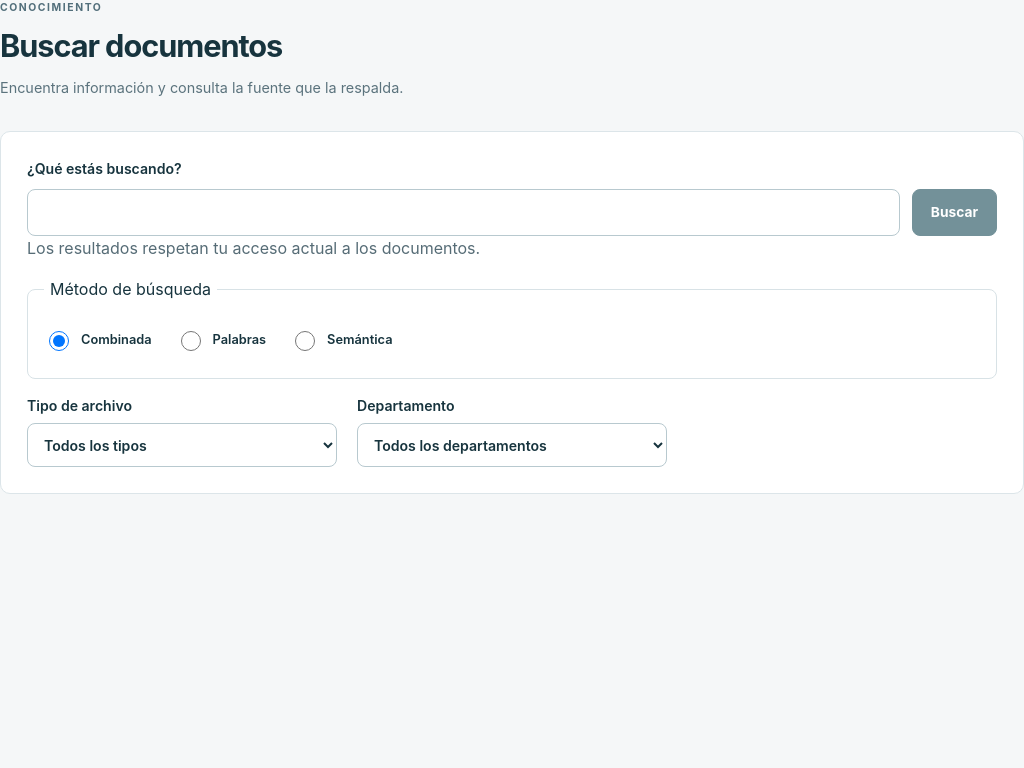
Test: submits labeled filters and clearly identifies fake semantic results
Expected: the button "Buscar" is disabled, left=912, top=189, right=997, bottom=236
Select "PDF" in the dropdown labelled "Tipo de archivo". click: (182, 445)
box: left=27, top=423, right=337, bottom=467
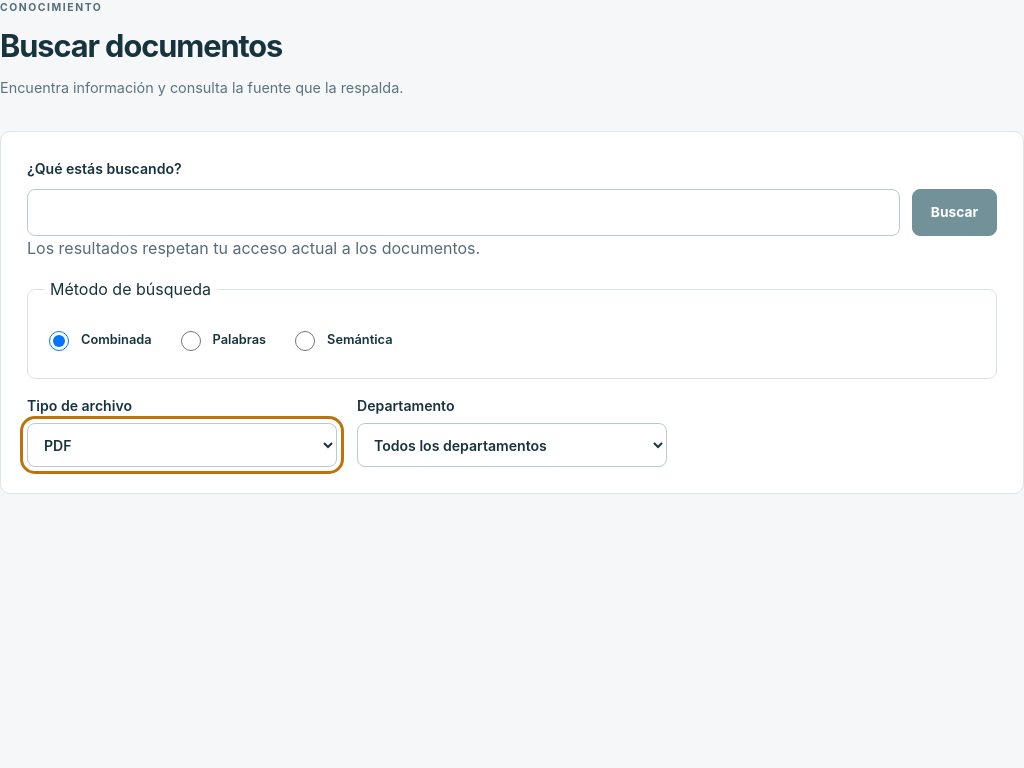
Select "Ingeniería" in the dropdown labelled "Departamento". click: (512, 445)
box: left=357, top=423, right=667, bottom=467
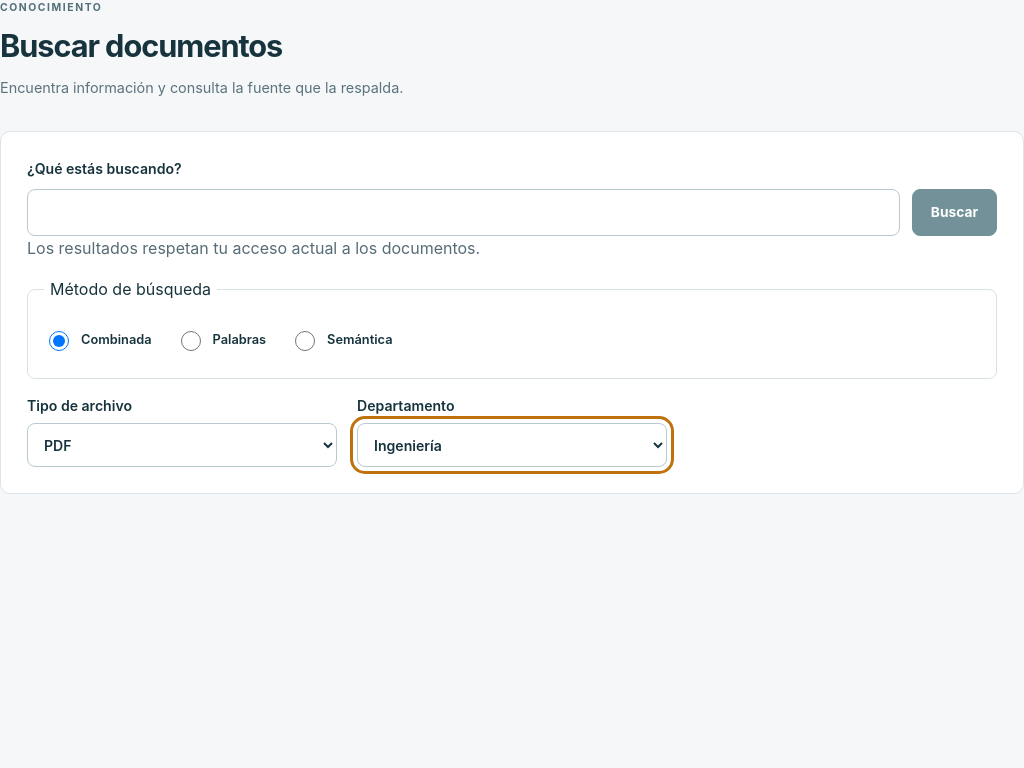
Type "viajes" into the search field. click: (463, 212)
box: left=27, top=189, right=900, bottom=236
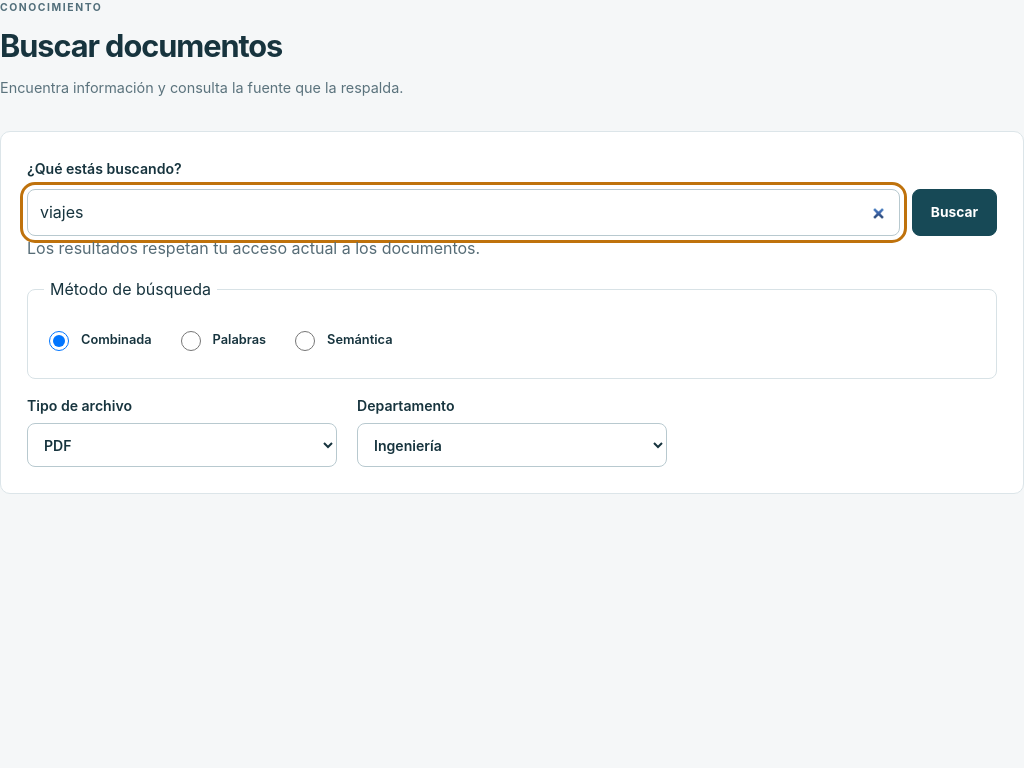
Click the button "Buscar". click: (954, 212)
box: left=912, top=189, right=997, bottom=236
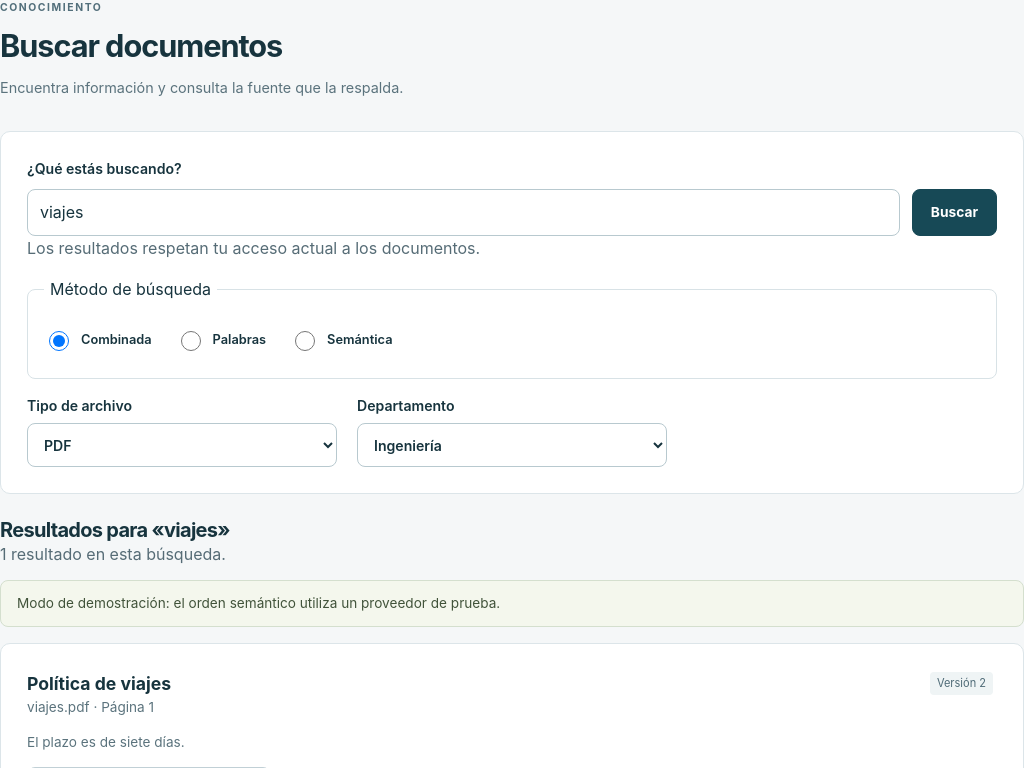
Expected: the text "El plazo es de siete días." is shown, left=27, top=734, right=185, bottom=750
Expected: the text "Modo de demostración" is shown, left=17, top=595, right=500, bottom=611
